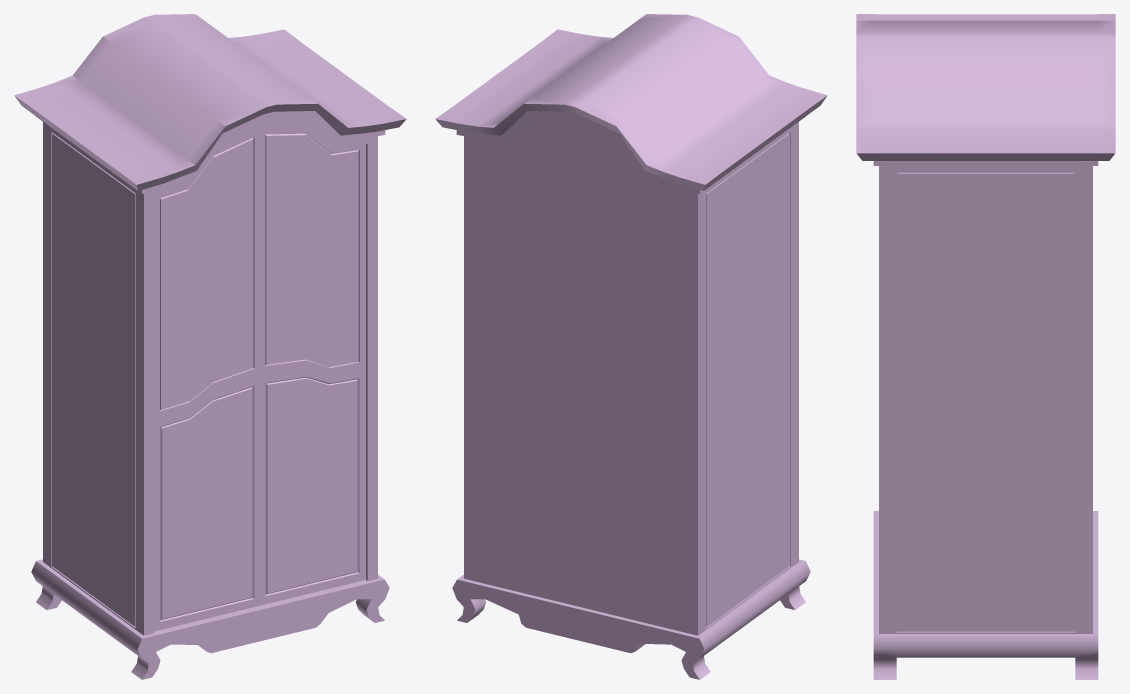
The model's file is ModelosEscenarioArmarioV1.fbx.
3 views of the same model, side by side, from view 1: azimuth 30°, elevation 25°; view 2: azimuth 150°, elevation 25°; view 3: azimuth 270°, elevation 25° (orthographic). The views are drawn at different scales.
Parts seen in each view (by area): view 1: ArmarioBase, ArmarioPuerta001, ArmarioPuerta; view 2: ArmarioBase; view 3: ArmarioBase.
Boxes of the visible parts, bbox=[...] form: ArmarioBase: bbox=[14, 14, 406, 679]; ArmarioPuerta001: bbox=[260, 127, 365, 605]; ArmarioPuerta: bbox=[154, 129, 259, 631]; ArmarioBase: bbox=[435, 14, 827, 679]; ArmarioBase: bbox=[856, 14, 1115, 679].
Bounding box in the file's own units: 830 × 1616 × 653.
